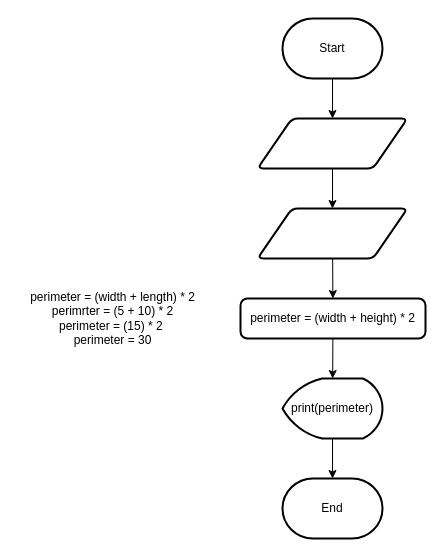
Some shapes in this 443 by 556 pixel diagram are drawn without their labels. Each missing label, with the box of its shape:
height: (256, 207, 408, 259)
width: (256, 117, 408, 169)
